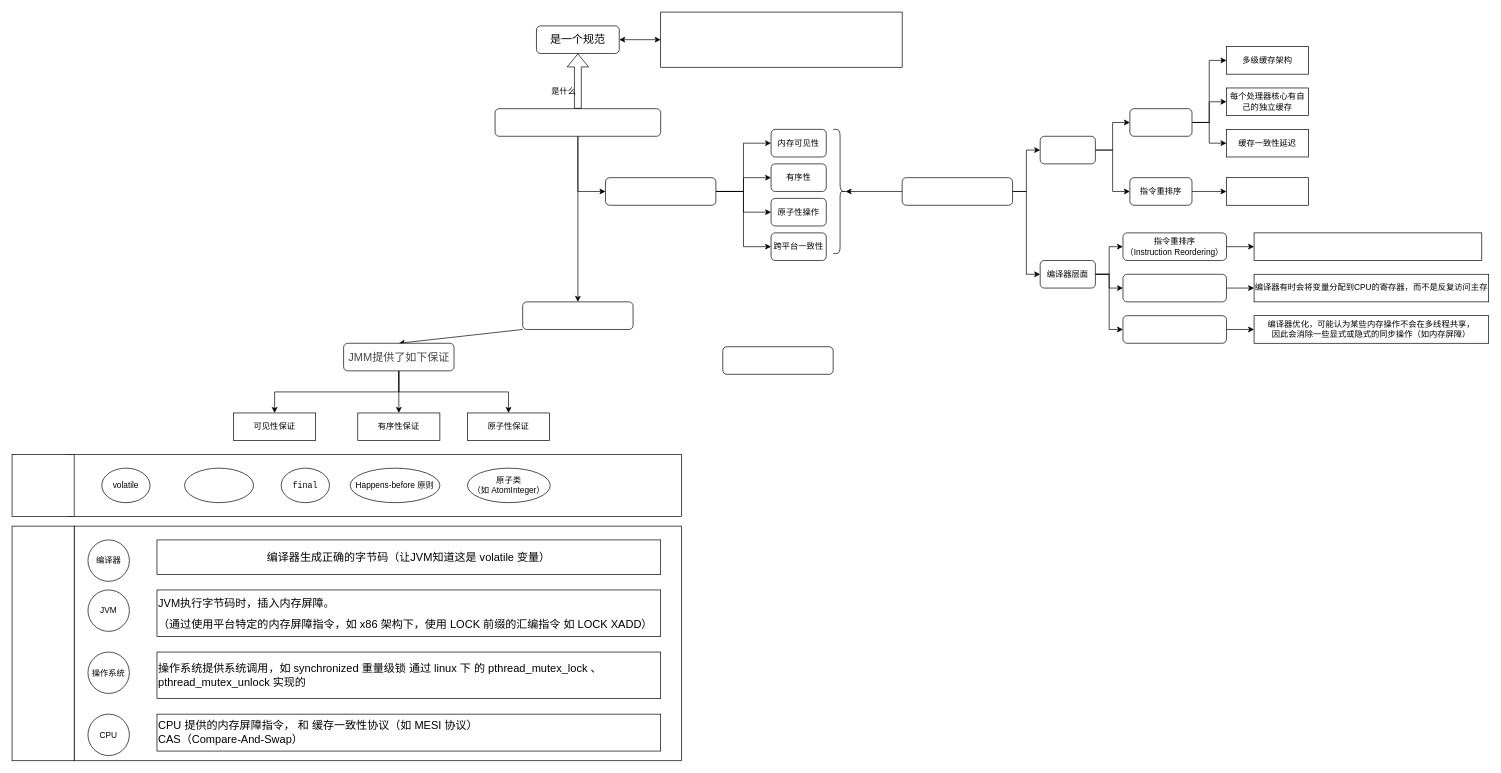
This 1501x773 diagram has some shape labels left out. Each missing label, with the box of its shape:
CPU为了效率，可能改变指令顺序的: (1226, 177, 1309, 205)
CPU层面: (1039, 136, 1095, 164)
CPU缓存机制: (1129, 108, 1192, 136)
Java 内存模型 JMM: (494, 108, 661, 136)
JMM 实现依赖于底层的支持: (11, 525, 74, 761)
JMM提供给开发人员的: (11, 454, 74, 516)
JMM提出如下概念: (722, 346, 833, 374)
synchronized: (184, 467, 254, 503)
为了优化程序执行效率，编译器可能重新排列代码的指令顺序: (1253, 232, 1482, 260)
保证： 1. 多线程编程在 Java 中变得更加安全、可预测和一致 2. 避免因为不同硬件，系统的差异带来的不确定性: (660, 11, 902, 67)
如何解决的: (522, 301, 633, 329)
寄存器优化: (1122, 274, 1226, 302)
清除不必要的内存读: (1122, 315, 1226, 343)
解决什么问题: (605, 177, 716, 205)
问题是怎么产生的: (901, 177, 1013, 205)
